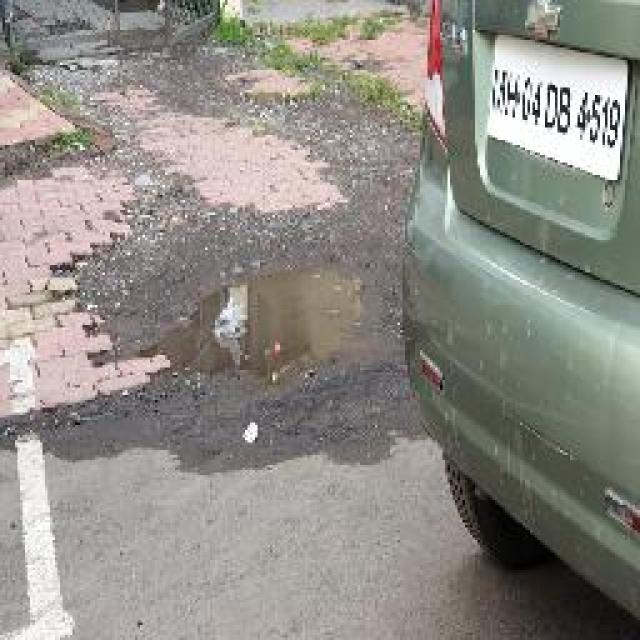puddle: (164, 266, 400, 404)
